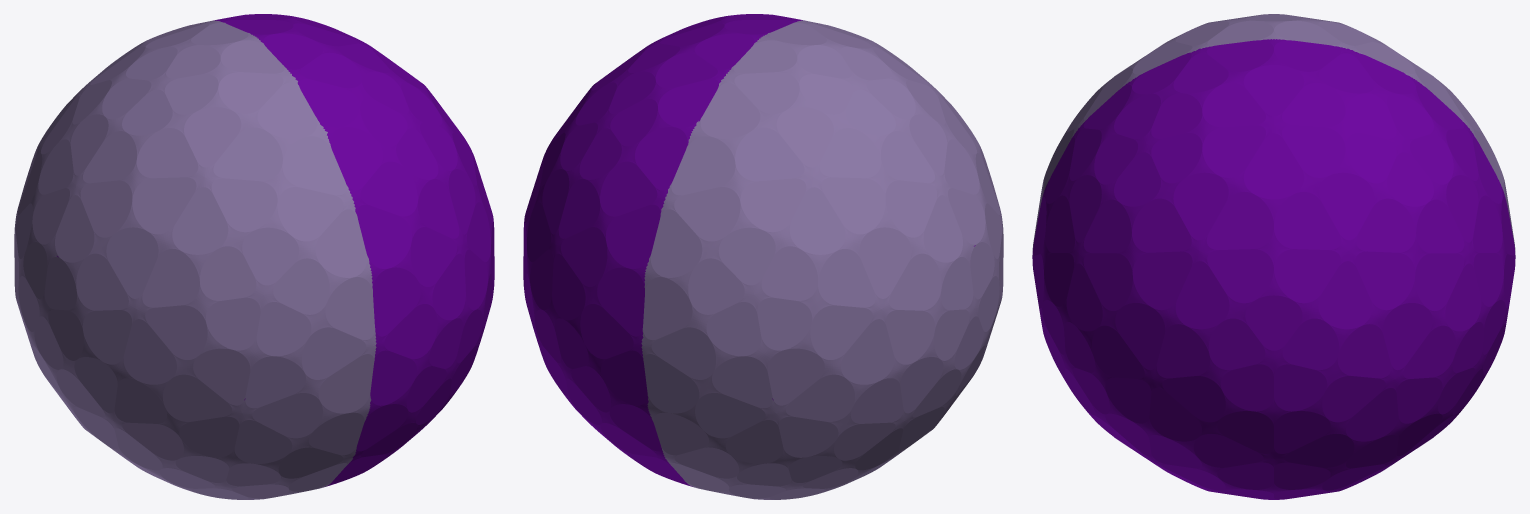
The model's file is ballPurpleRight.fbx.
3 views of the same model, side by side, from view 1: azimuth 30°, elevation 25°; view 2: azimuth 150°, elevation 25°; view 3: azimuth 270°, elevation 25° (orthographic).
Visible parts, largest first — view 1: Icosphere; view 2: Icosphere; view 3: Icosphere.
Boxes of the visible parts, box(x1,y1,x2,y2) form: Icosphere: box(14, 14, 494, 499); Icosphere: box(523, 14, 1003, 499); Icosphere: box(1032, 14, 1515, 499).
Size of the model in its own units: 185 by 184 by 184.
